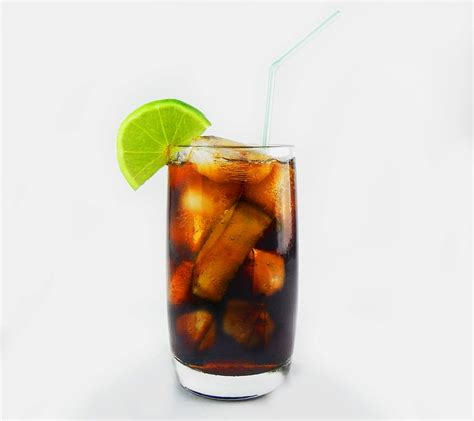alcohol: (113, 93, 316, 405)
